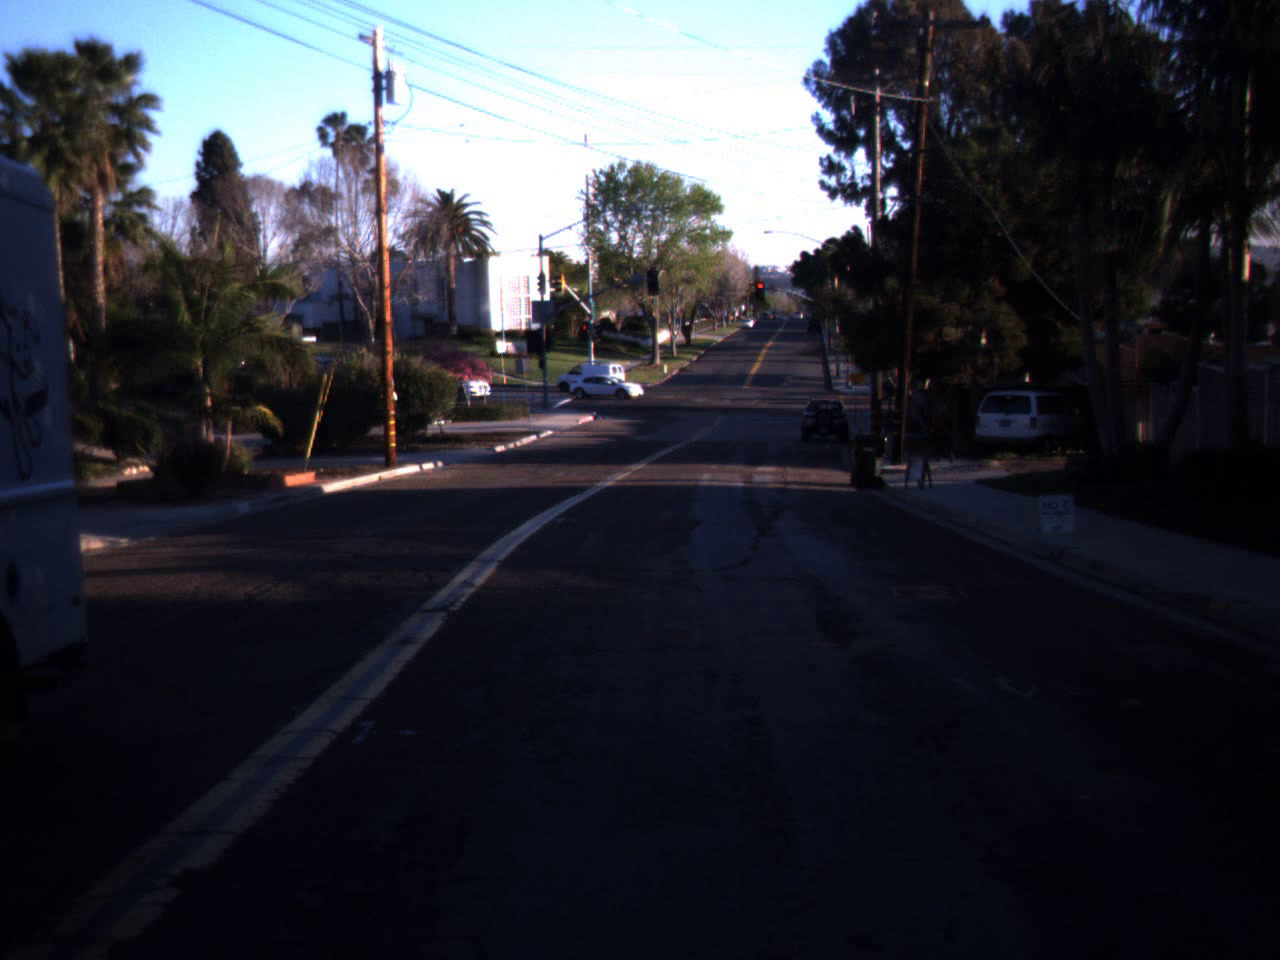stop: (754, 282, 766, 300)
